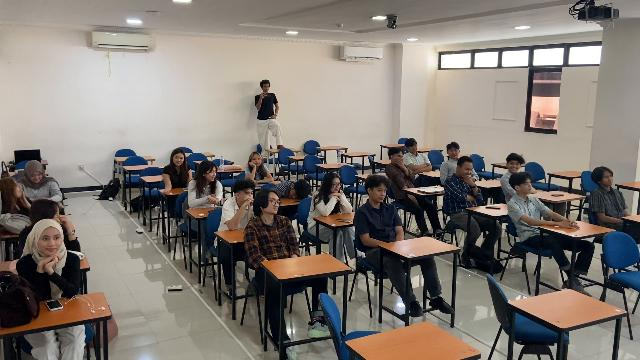senang: (41, 233, 61, 252), (375, 185, 388, 202), (268, 196, 280, 214), (524, 178, 534, 194), (462, 164, 473, 177), (331, 179, 341, 193), (31, 172, 43, 183), (207, 168, 217, 181), (173, 155, 184, 166), (509, 161, 520, 172), (603, 173, 613, 185), (448, 148, 459, 158), (409, 143, 418, 153), (253, 154, 260, 166)
